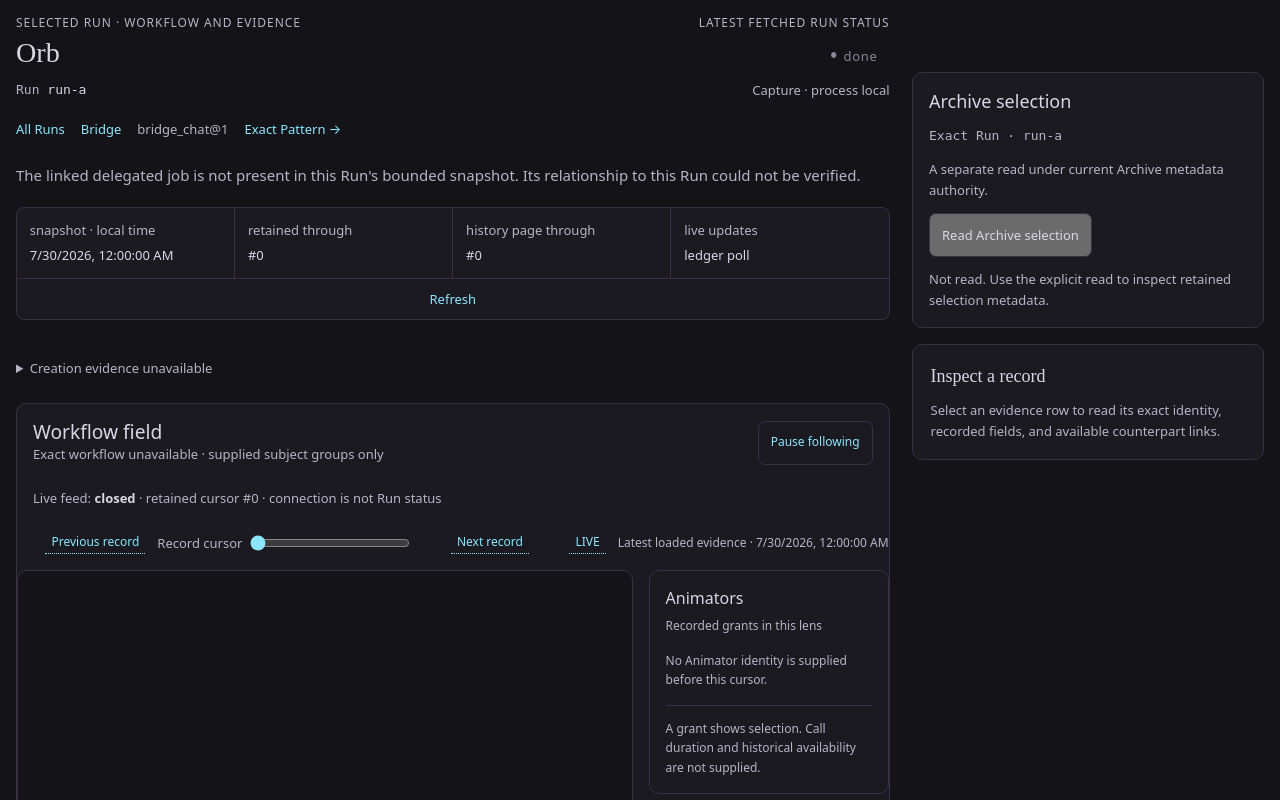
Test: Orb evidence focus › reports a linked delegated job absent from the selected Run snapshot
Expected: the text "The linked delegated job is not present in this Run's bounded snapshot" is shown, left=16, top=165, right=860, bottom=185
What coordinates should you click on to do the following:
click the button "Refresh"
I would click on:
 (453, 299)
Its box is left=17, top=279, right=889, bottom=319.
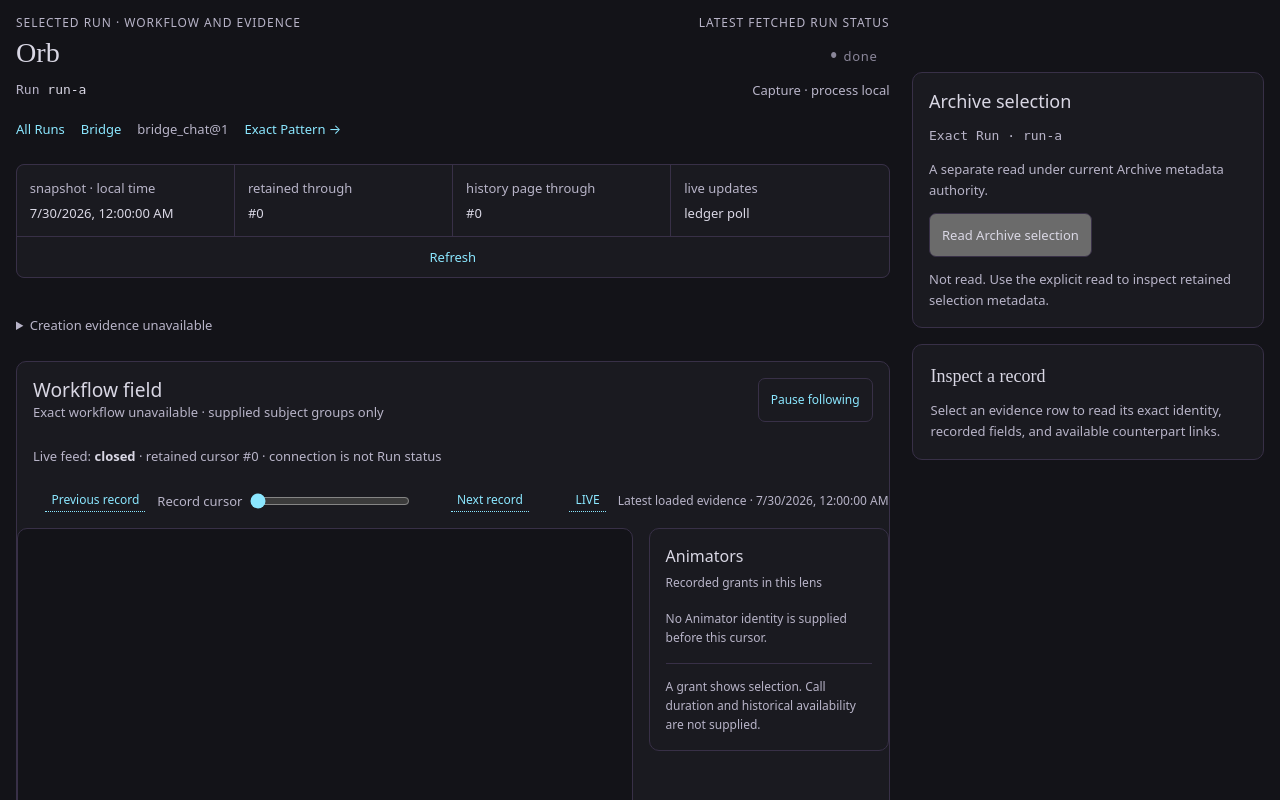
Now the text "The linked delegated job is not present" is gone
